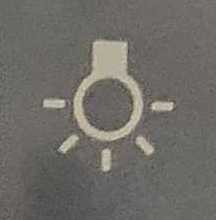light: (15, 22, 203, 193)
